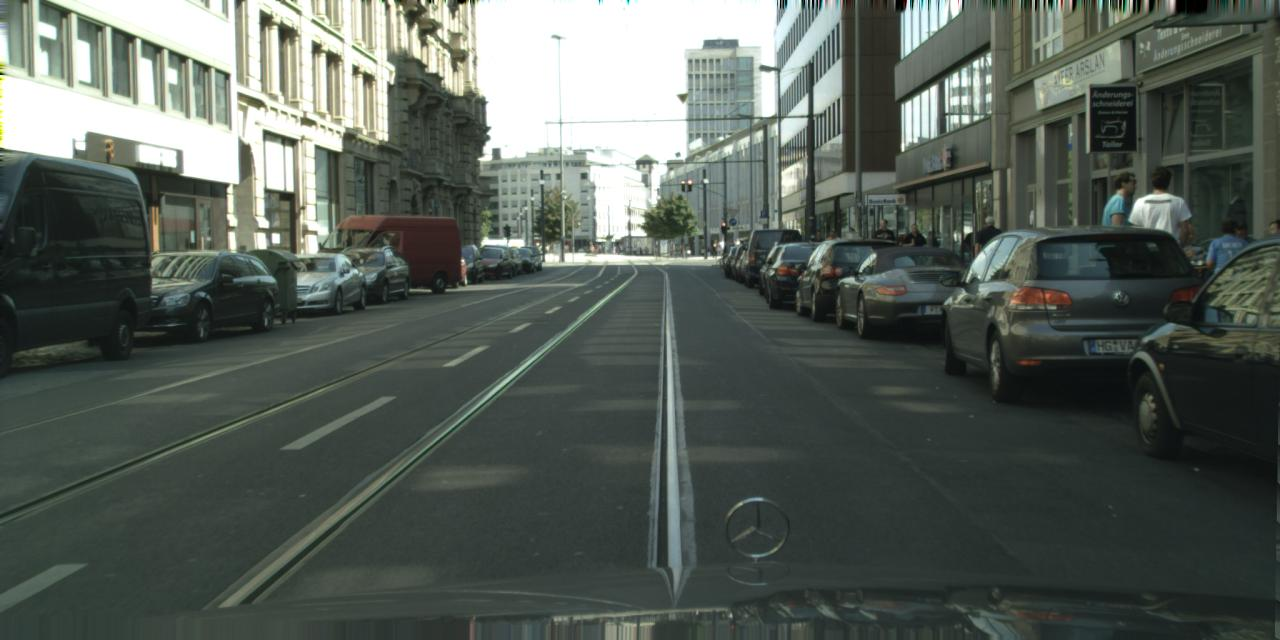ped: (1122, 166, 1196, 344), (1087, 170, 1152, 330), (970, 215, 1010, 316), (869, 218, 896, 288), (901, 223, 928, 291), (841, 226, 863, 282), (821, 231, 842, 282), (808, 231, 827, 277), (734, 238, 742, 260), (728, 240, 736, 259), (711, 240, 718, 258), (706, 246, 710, 255), (616, 245, 620, 252), (639, 245, 642, 254), (701, 247, 704, 254), (590, 243, 592, 250), (612, 246, 614, 252)
